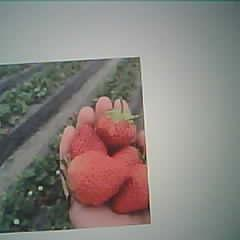straw-ripe: (67, 153, 126, 205)
